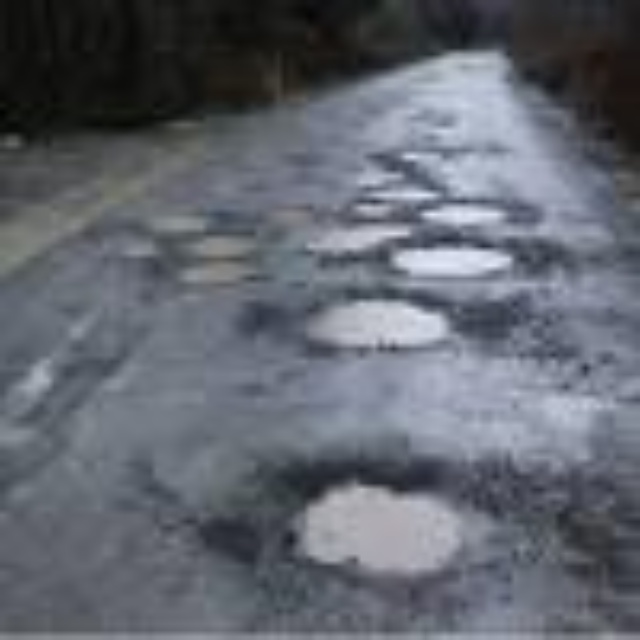pothole: (301, 461, 499, 570), (352, 160, 512, 282), (307, 301, 448, 346), (166, 230, 218, 269)
